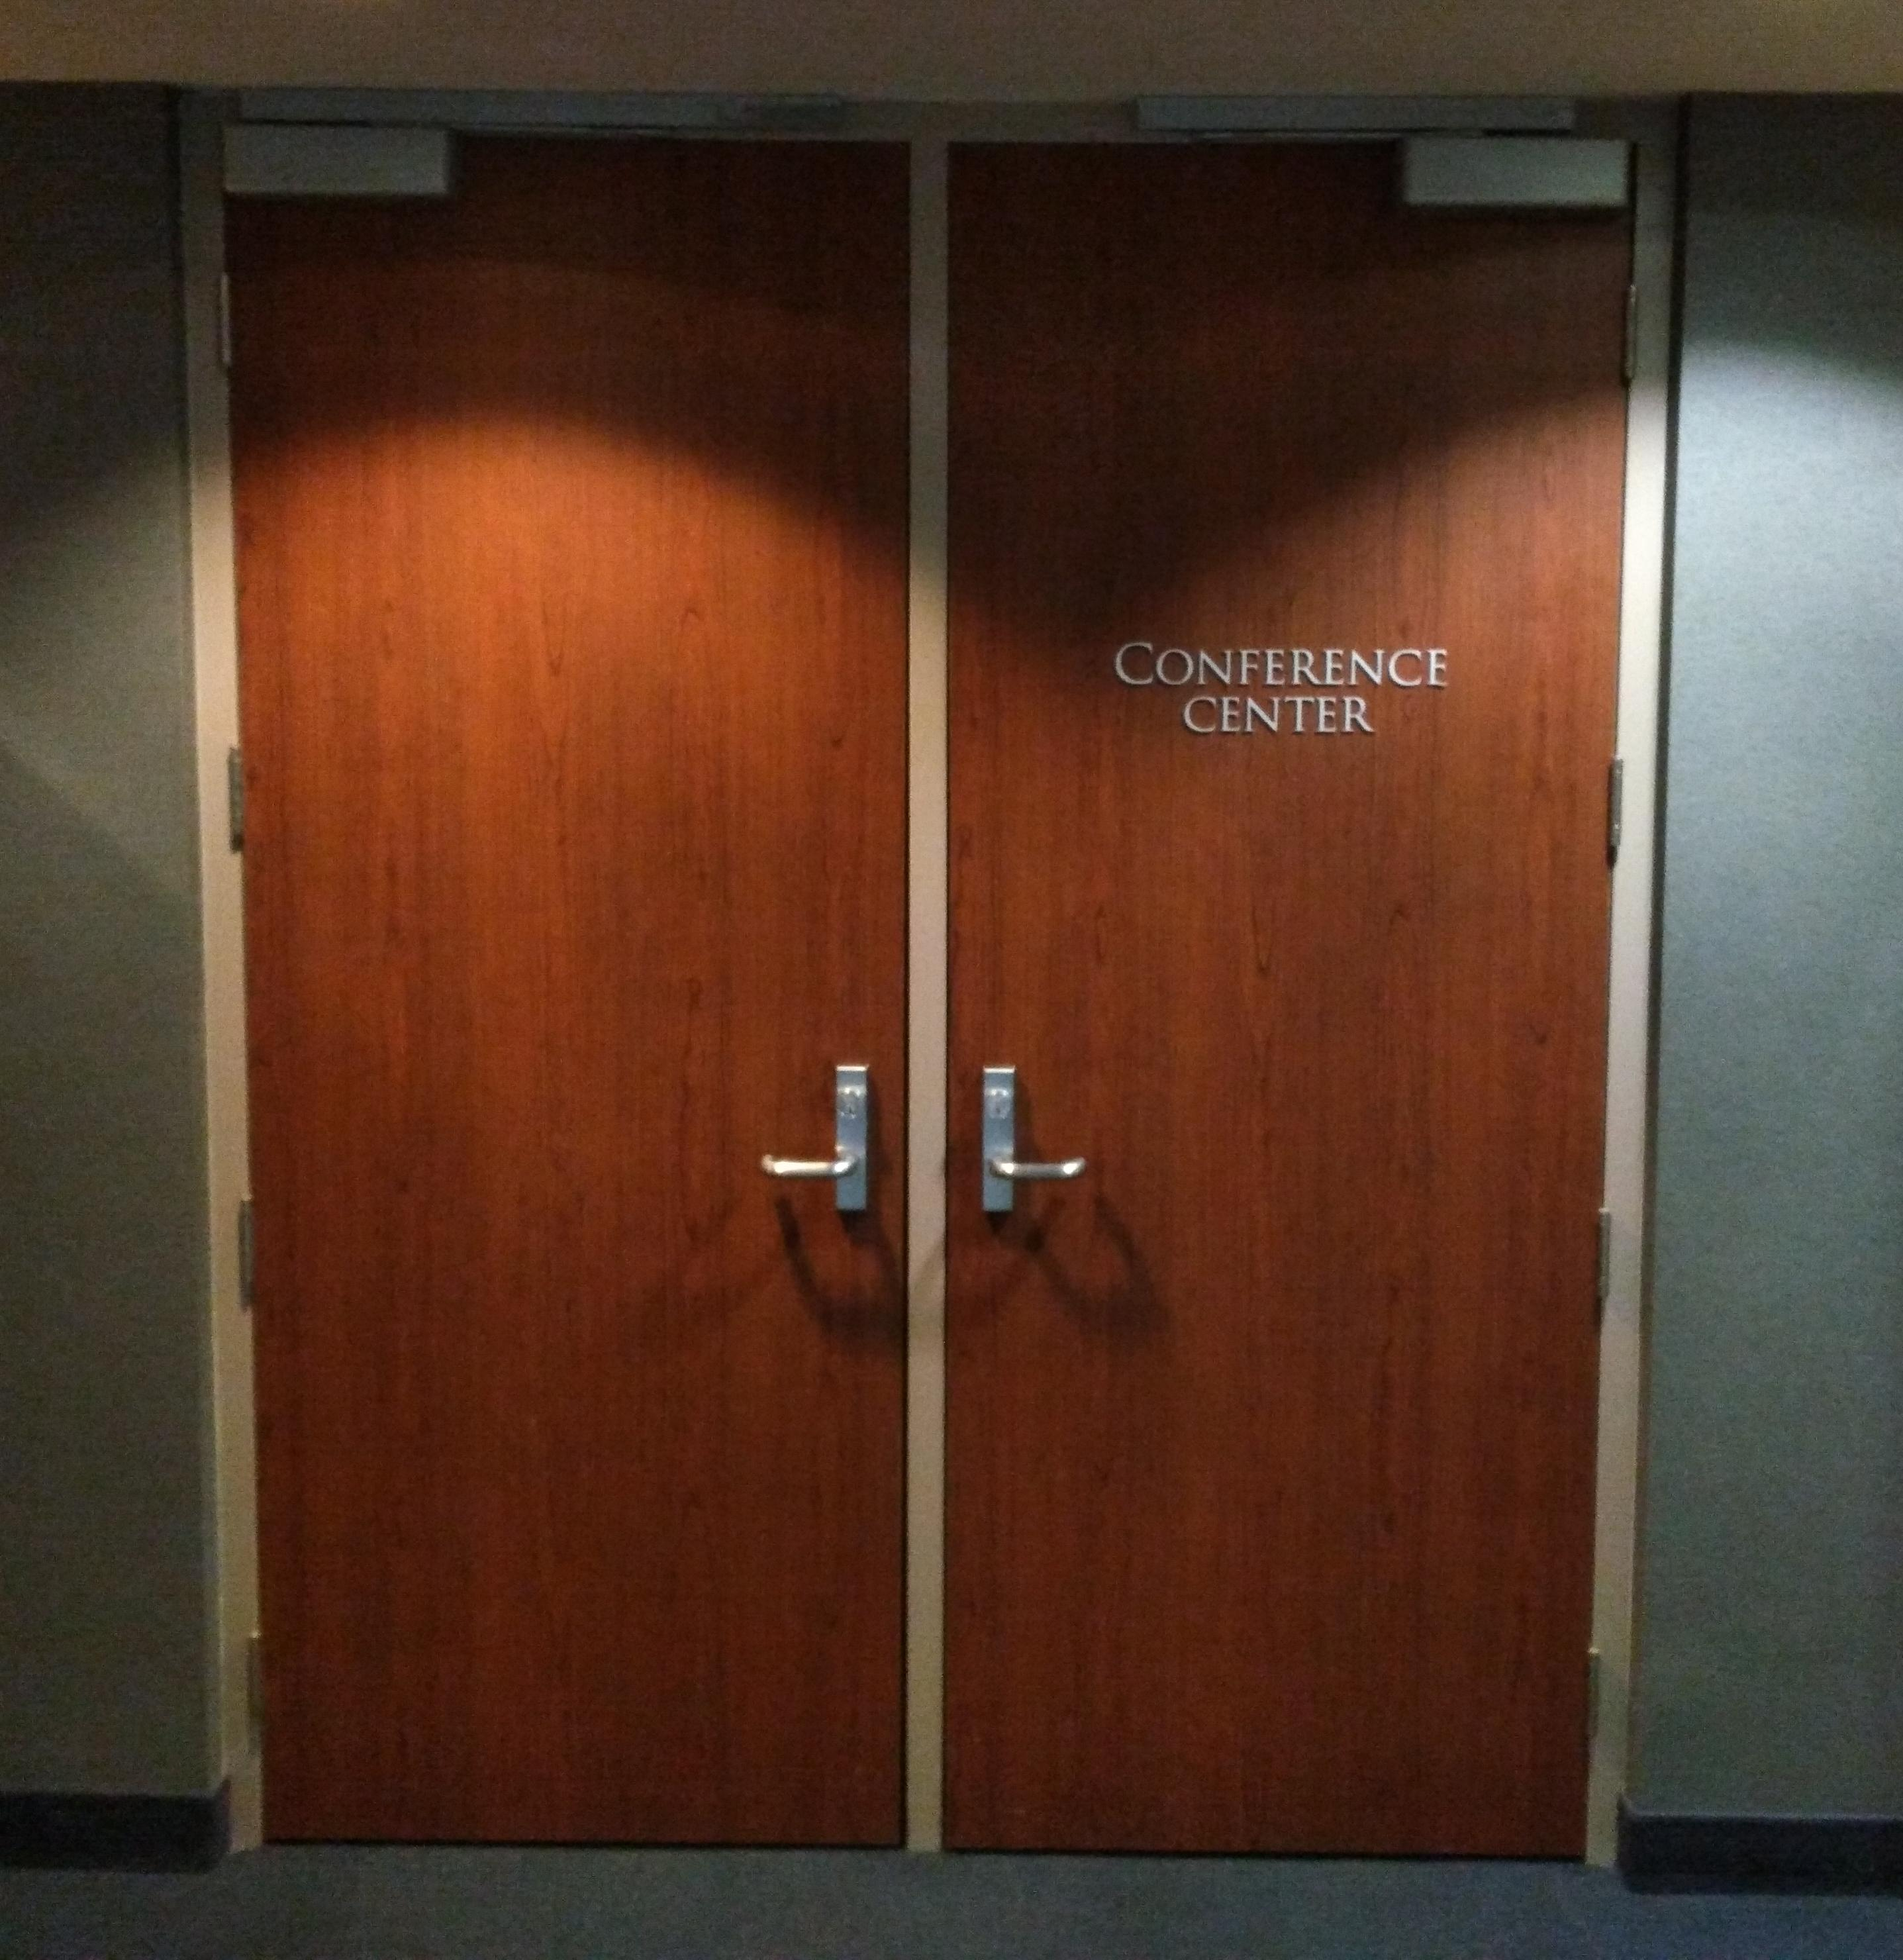door: (186, 93, 1682, 1872)
